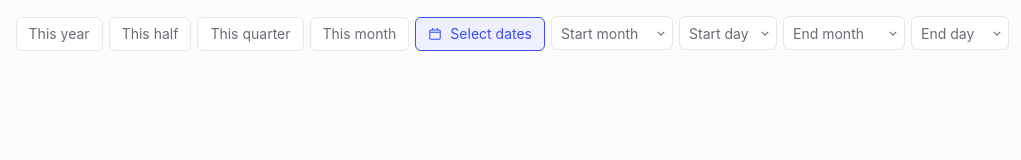
TimeFilter › shows warning for incompatible custom date combination
Type "February" into the field labelled "Start month" at point(612, 33), box [551,16,673,50]
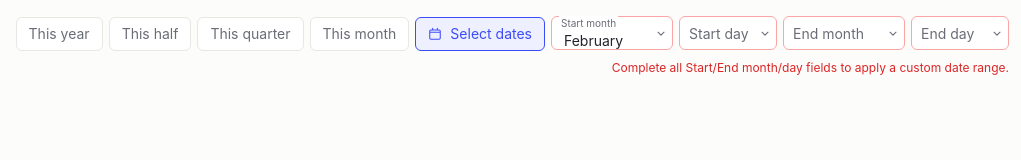
Type "30" into the field labelled "Start day" at point(728, 33), box [679,16,777,50]
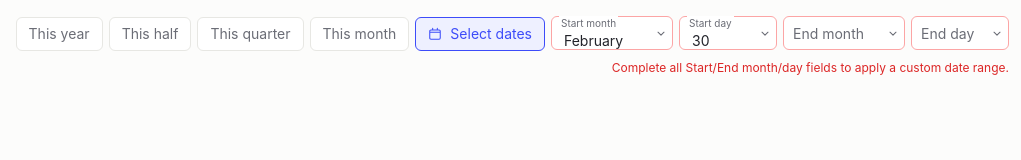
Type "March" into the field labelled "End month" at point(844, 33), box [783,16,905,50]
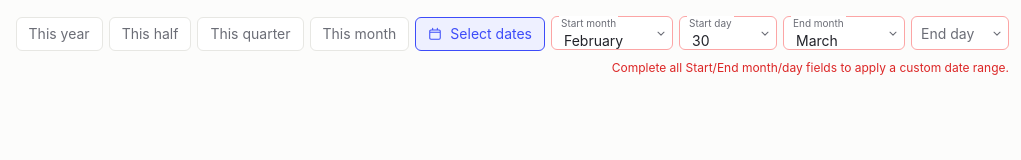
Type "10" into the field labelled "End day" at point(960, 33), box [911,16,1009,50]
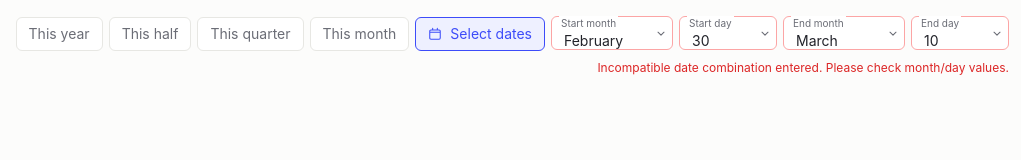
Expected: the text "Incompatible date combination entered" is shown, [597,60,1009,74]
